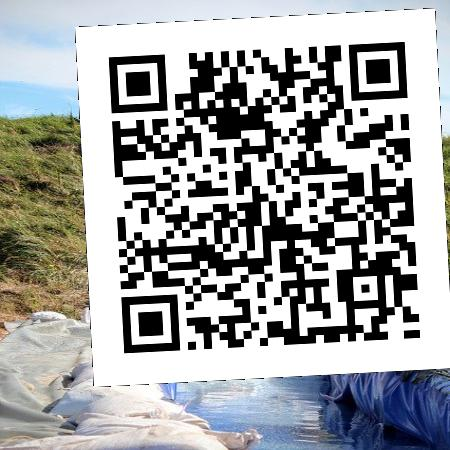qr_code: (75, 10, 449, 384)
